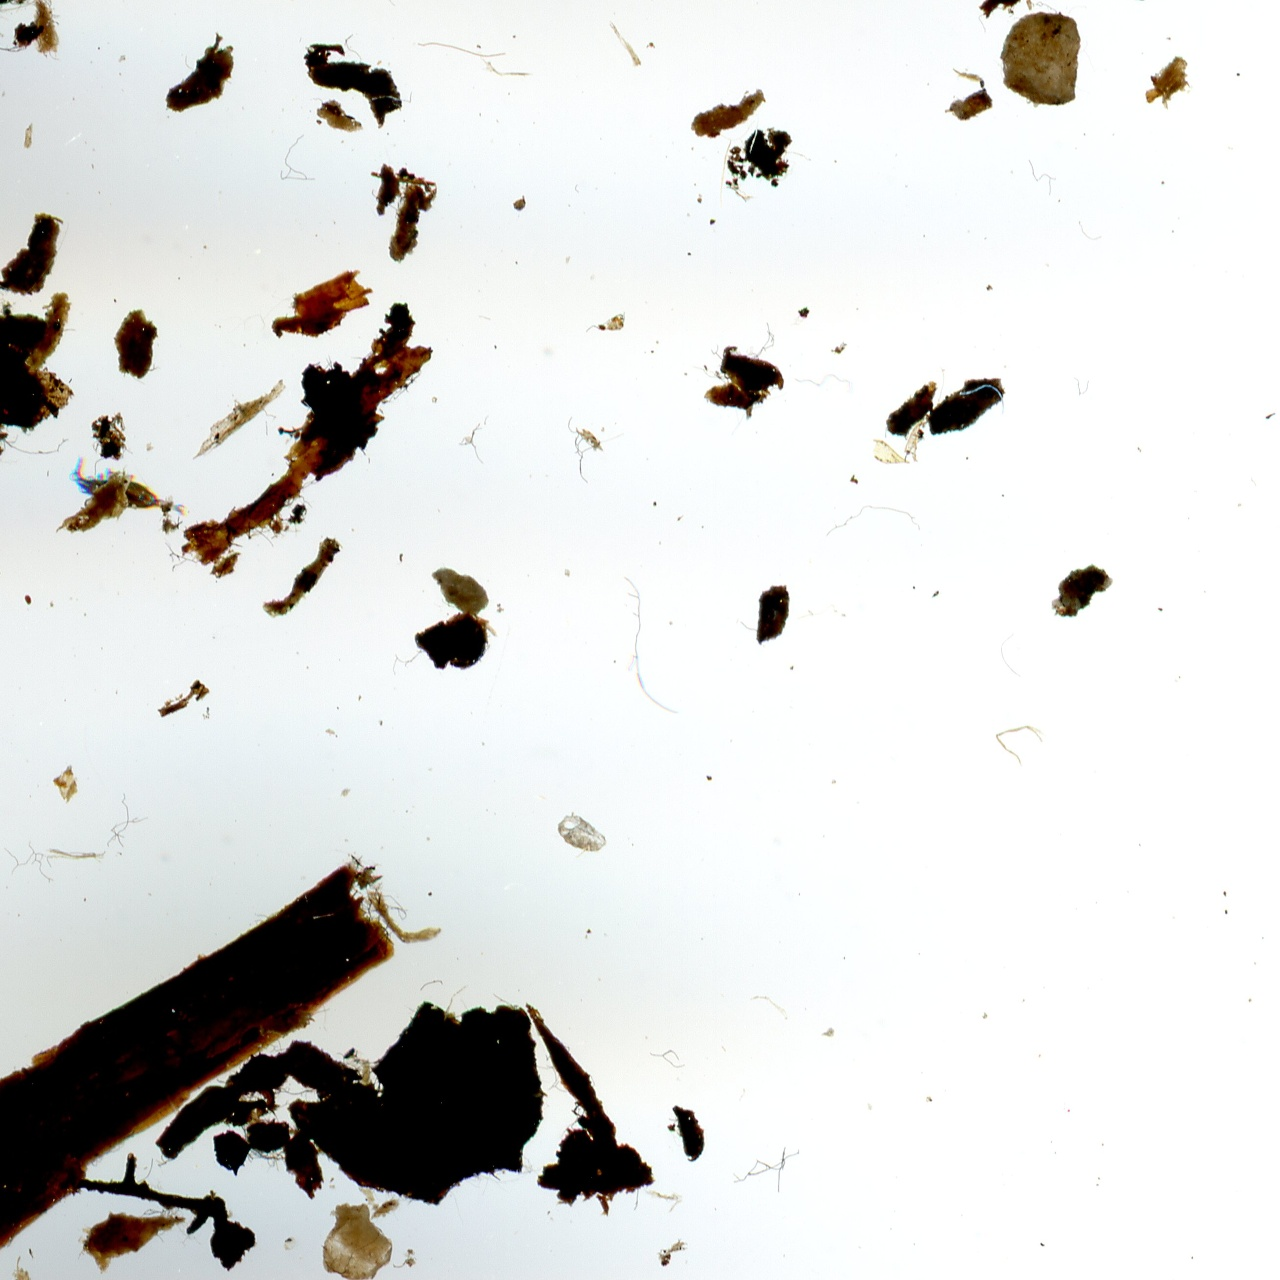arthropod: (62, 450, 196, 525)
